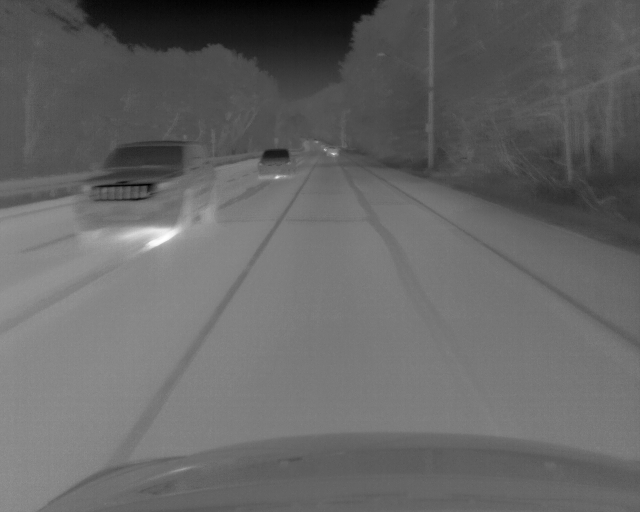car: (75, 140, 215, 247), (254, 146, 295, 181), (325, 145, 340, 160)
